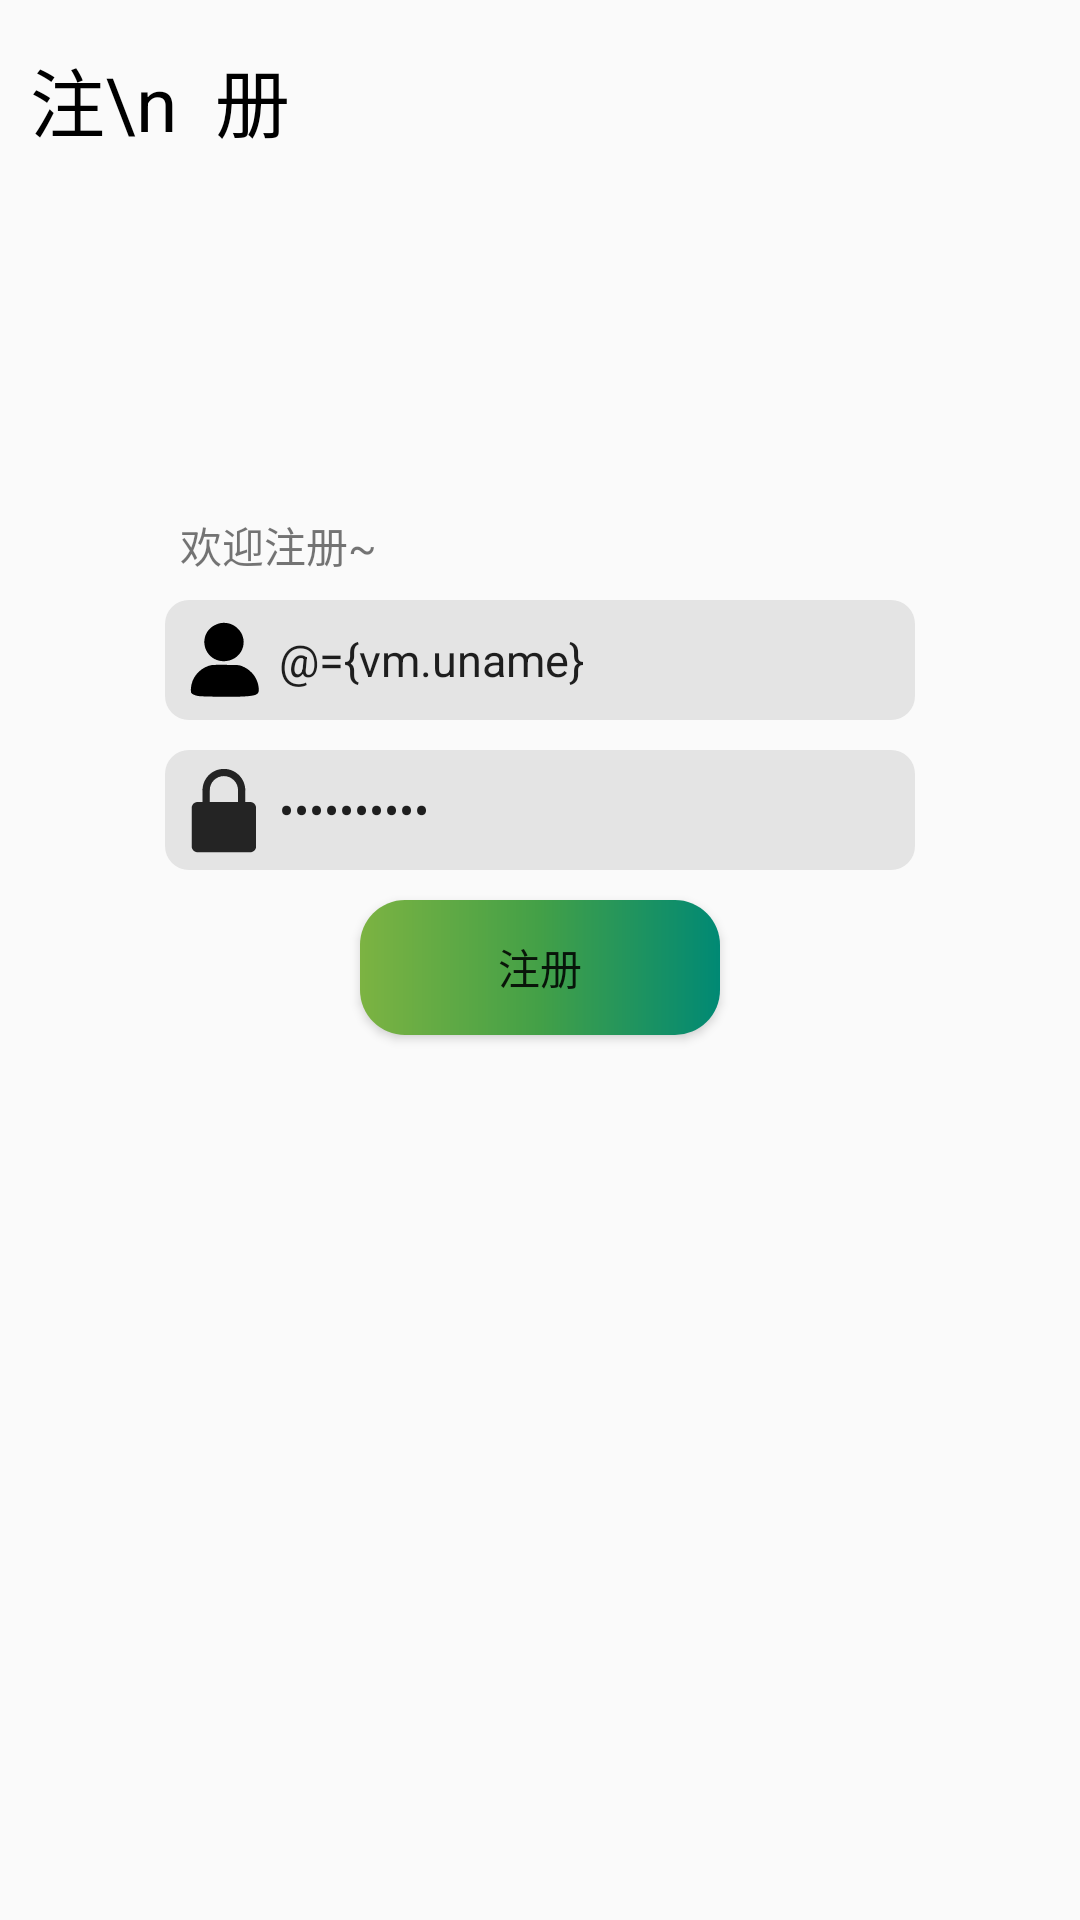

Point at icon controls on the screen. Image size 1080x1920, points as (x,y).
password: (223,811)
user name: (224,659)
